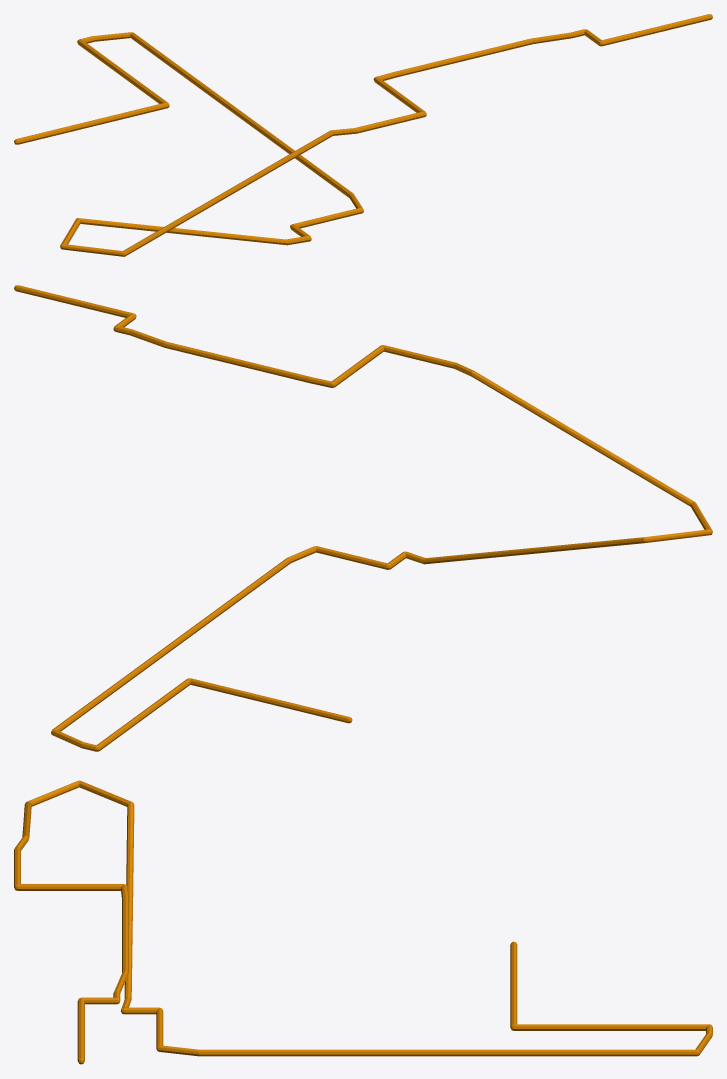
3 renders of one model, top to bottom at view 1: azimuth 30°, elevation 25°; view 2: azimuth 150°, elevation 25°; view 3: azimuth 270°, elevation 25°, orthographic. The views are drawn at different scales.
Size of the model in its own units: 2402 by 520 by 1966.
